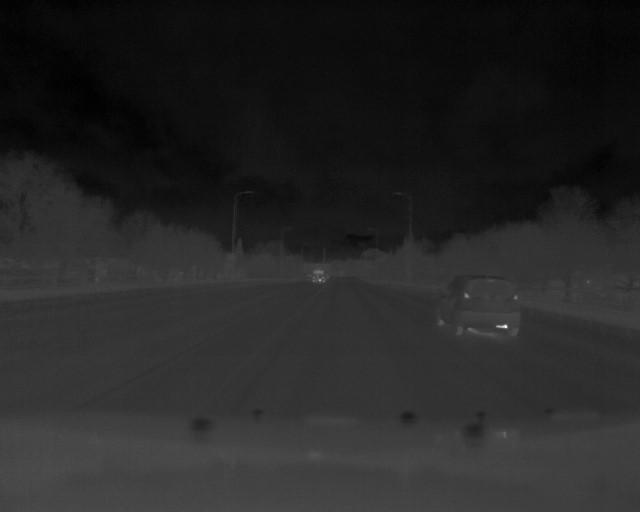car: (438, 273, 524, 341), (309, 268, 331, 286)
